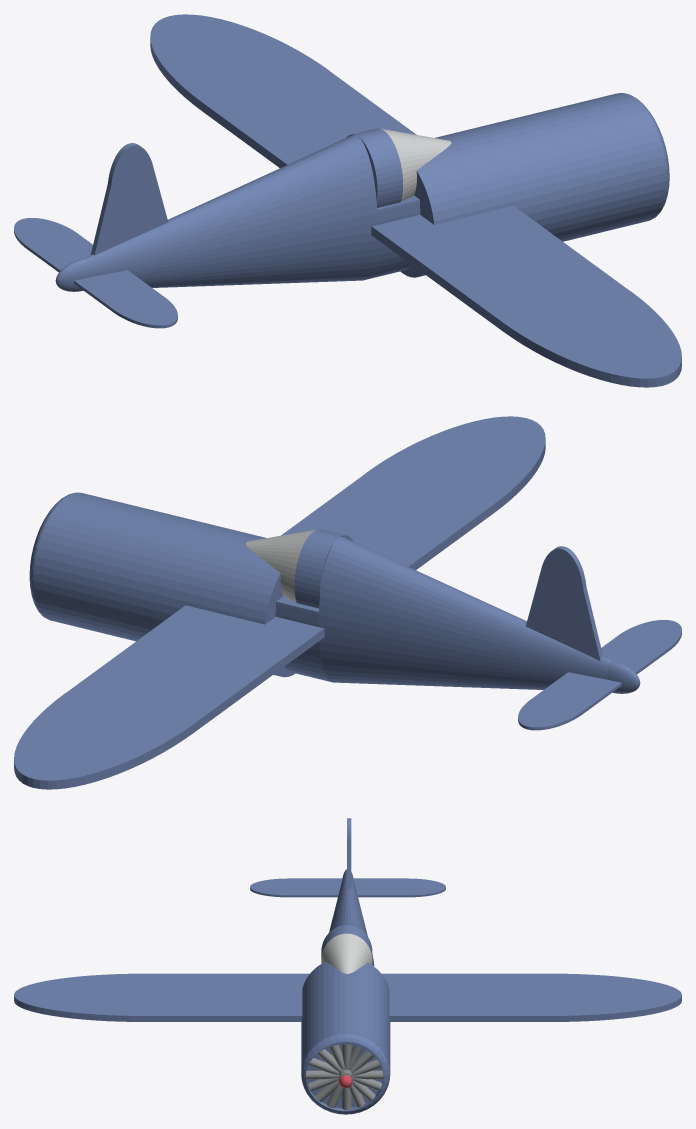
Rendered from FighterV1_proto.glb.
3 renders of one model, top to bottom at view 1: azimuth 30°, elevation 25°; view 2: azimuth 150°, elevation 25°; view 3: azimuth 270°, elevation 25°, orthographic. The views are drawn at different scales.
Visible parts, largest first — view 1: Mesh_Mesh_head_geo.001_lambert2SG.001; view 2: Mesh_Mesh_head_geo.001_lambert2SG.001; view 3: Mesh_Mesh_head_geo.001_lambert2SG.001.
Boxes of the visible parts, x1,y1,x2,y2 form: Mesh_Mesh_head_geo.001_lambert2SG.001: [14, 14, 681, 387]; Mesh_Mesh_head_geo.001_lambert2SG.001: [14, 416, 681, 789]; Mesh_Mesh_head_geo.001_lambert2SG.001: [14, 818, 681, 1114].
Bounding box in the file's own units: 21.3 × 6.45 × 30.
